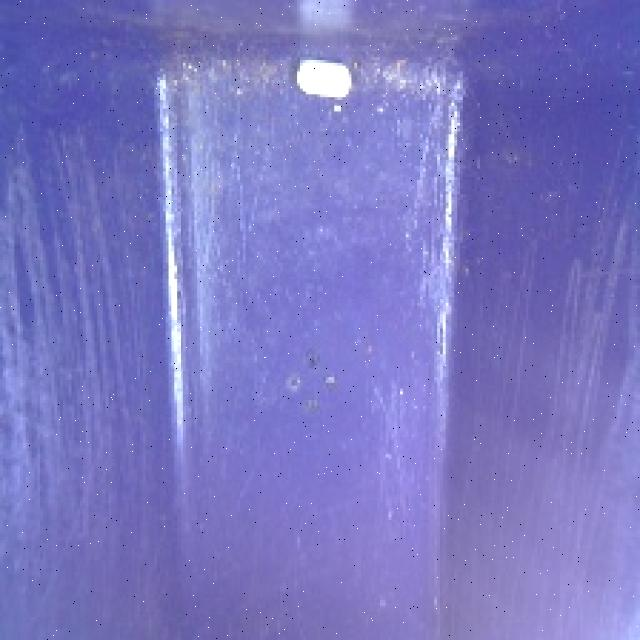small: (286, 54, 362, 102)
